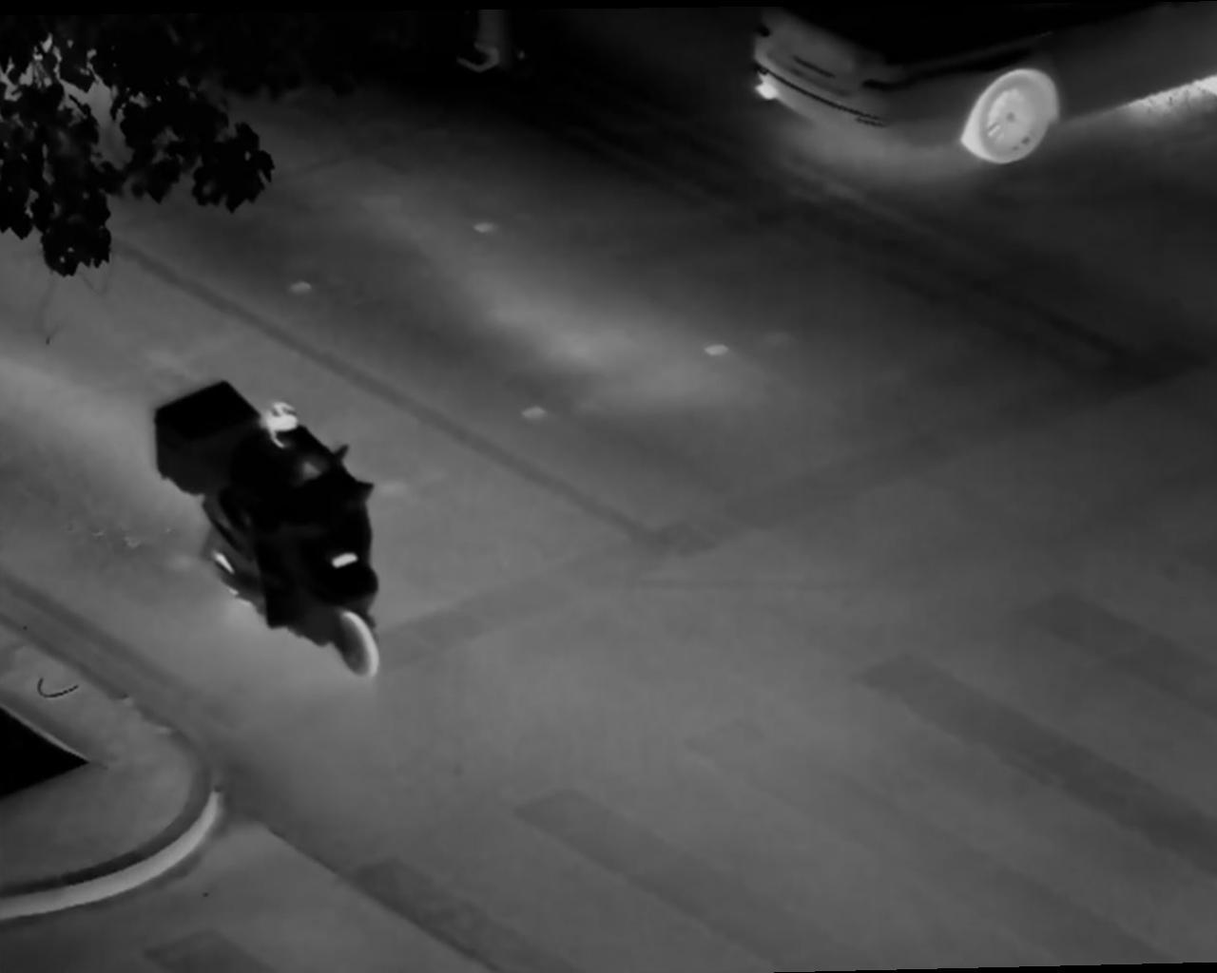person: (234, 393, 330, 598)
